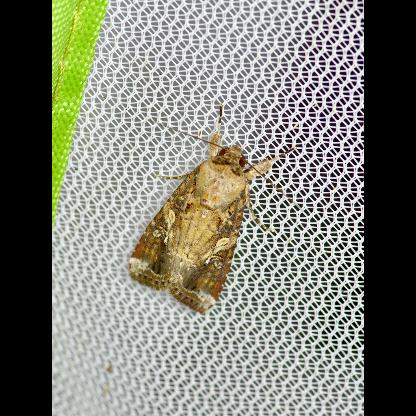Fall Armyworm Moth: (126, 100, 300, 316)
